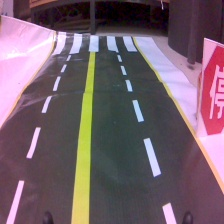stop: (200, 36, 224, 142)
